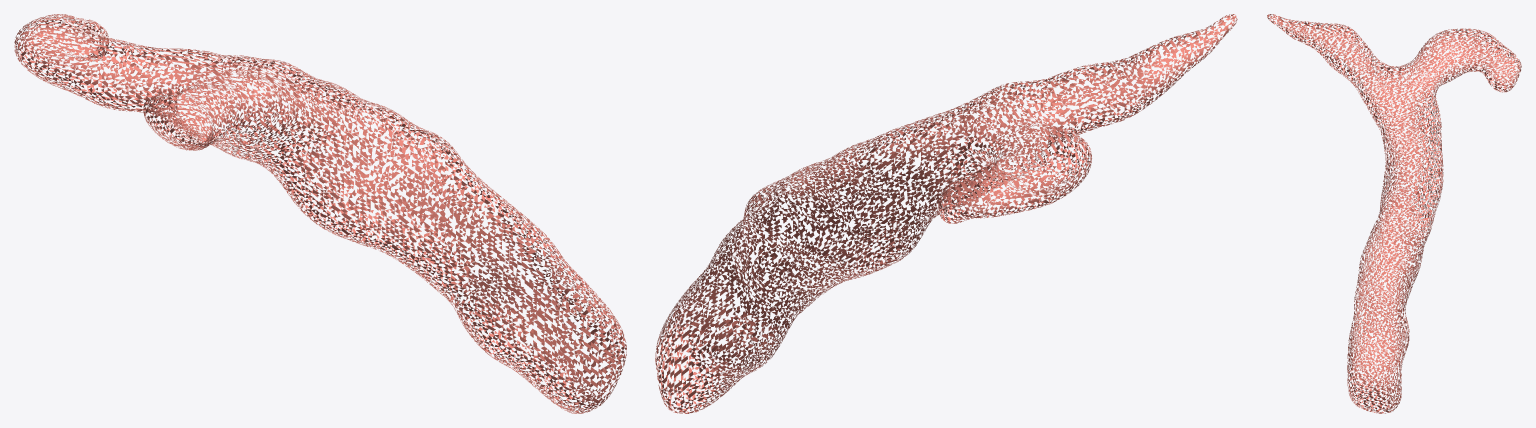
File: diseased.glb
3 views of the same model, side by side, from view 1: azimuth 30°, elevation 25°; view 2: azimuth 150°, elevation 25°; view 3: azimuth 270°, elevation 25° (orthographic). The views are drawn at different scales.
Bounding box in the file's own units: 95.44 × 81.2 × 70.46.
